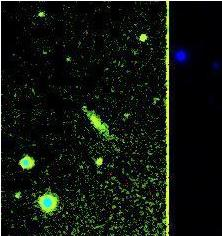star: (113, 105, 143, 135)
